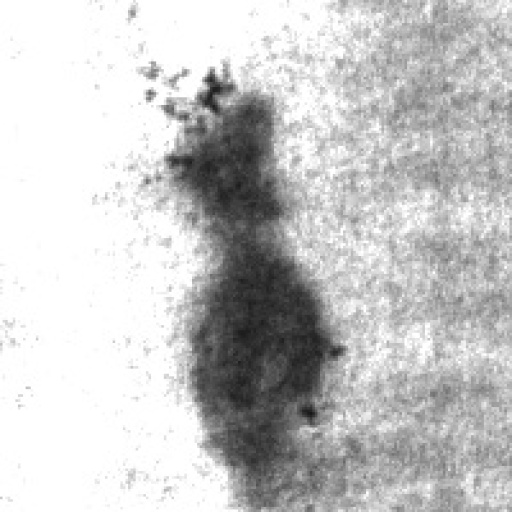patches: (165, 239, 357, 485), (130, 48, 311, 242)
